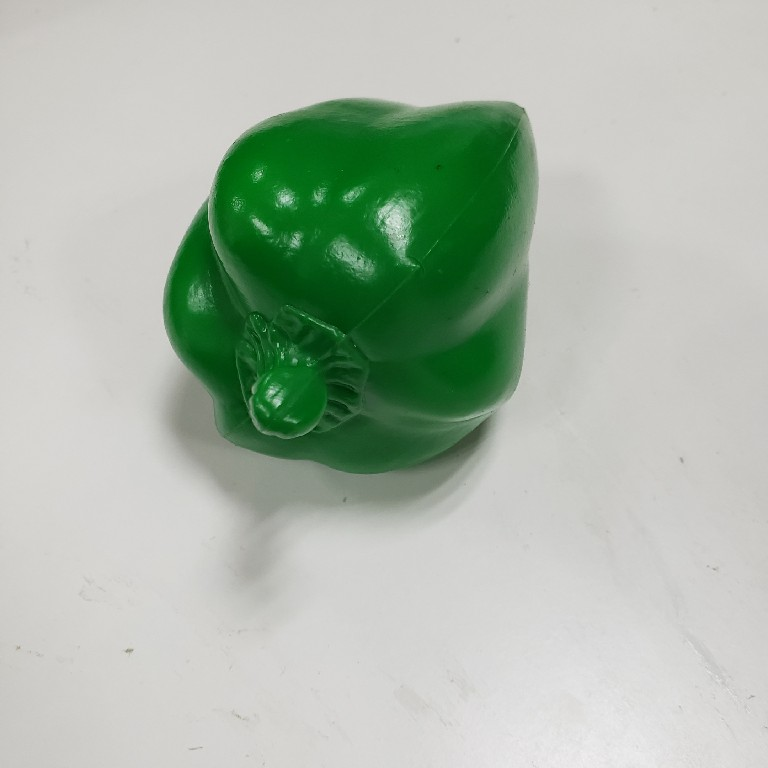fruit_pepper: (156, 94, 545, 480)
